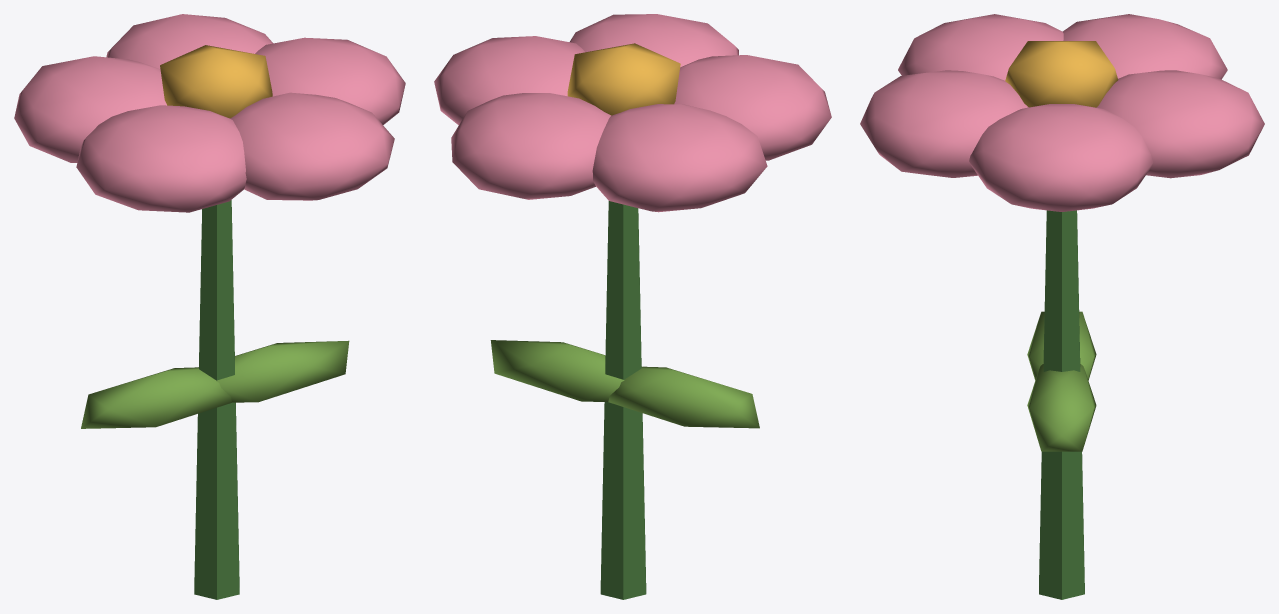
File: flower_pink_small_01.glb
The picture shows the model from 3 angles, left to right: view 1: azimuth 30°, elevation 25°; view 2: azimuth 150°, elevation 25°; view 3: azimuth 270°, elevation 25°; orthographic projection.
Parts seen in each view (by area): view 1: flower_pink_small_01; view 2: flower_pink_small_01; view 3: flower_pink_small_01.
Part boxes in pixels (x1,y1,x2,y2): flower_pink_small_01: [14, 14, 405, 599]; flower_pink_small_01: [434, 14, 831, 599]; flower_pink_small_01: [860, 14, 1264, 599].
Bounding box in the file's own units: 0.1567 × 0.2407 × 0.1616.
